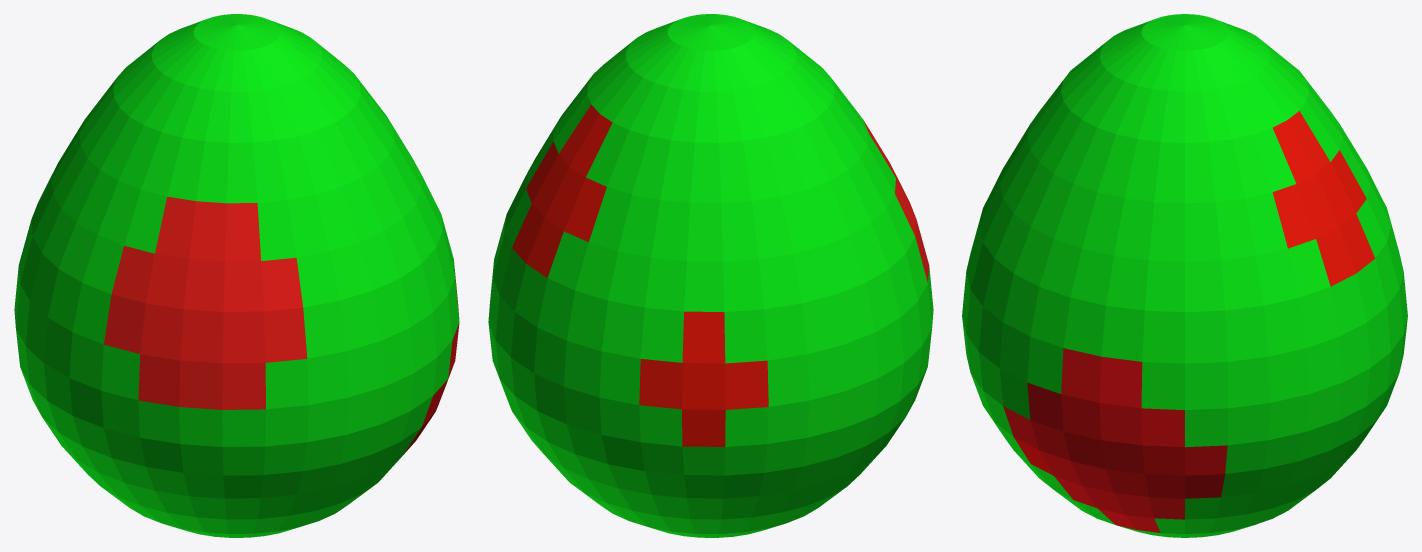
Rendered from EGG.fbx.
3 views of the same model, side by side, from view 1: azimuth 30°, elevation 25°; view 2: azimuth 150°, elevation 25°; view 3: azimuth 270°, elevation 25° (orthographic).
Visible parts, largest first — view 1: Cube; view 2: Cube; view 3: Cube.
Part boxes in pixels (x1,y1,x2,y2): Cube: [14, 14, 459, 537]; Cube: [488, 14, 933, 537]; Cube: [962, 14, 1407, 537].
Size of the model in its own units: 200 by 242 by 200.
